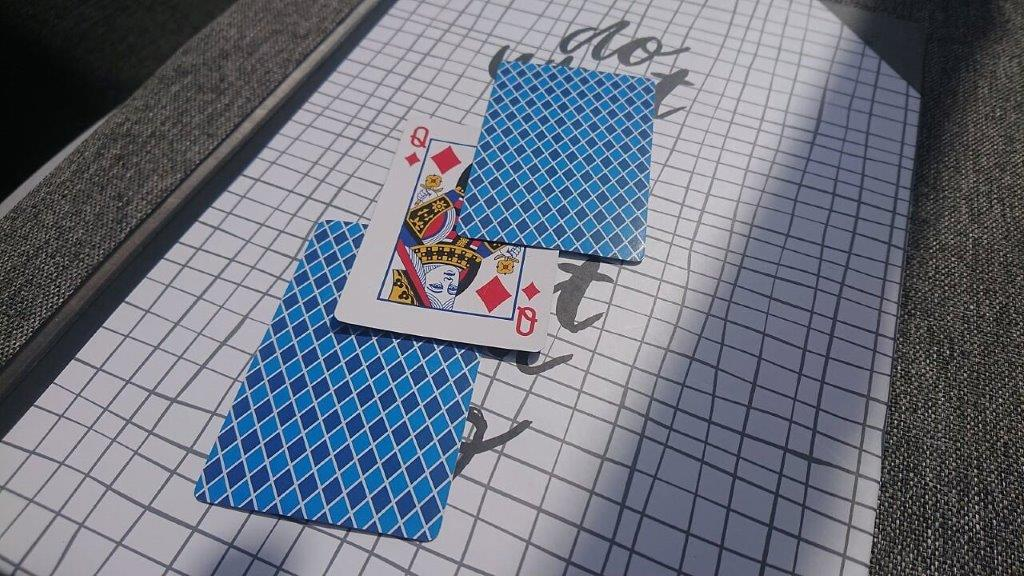BACK: (192, 355, 483, 545), (455, 58, 657, 265)
QD: (402, 121, 431, 170)
